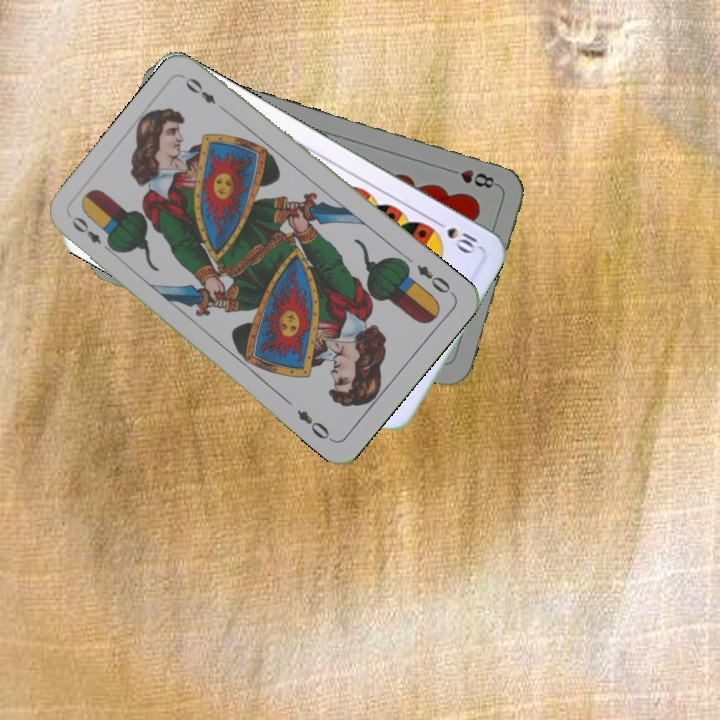EO: (67, 212, 117, 256), (412, 260, 457, 298)
H8: (443, 164, 501, 191)
S10: (429, 215, 480, 257)
